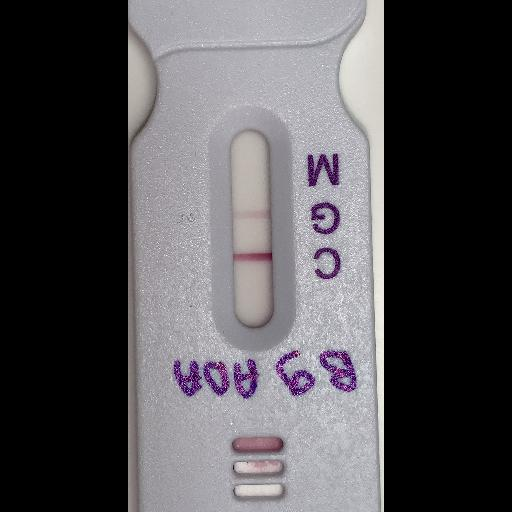Pos: (127, 0, 379, 509)
